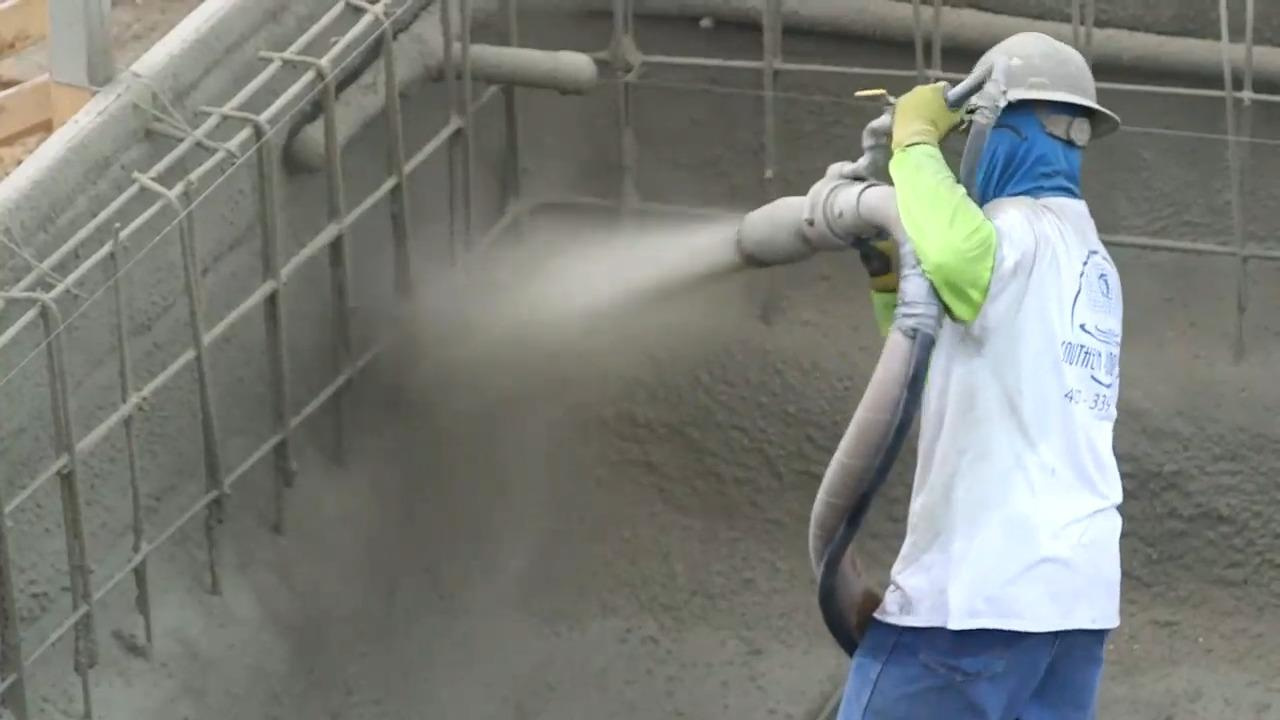Gloves: (886, 72, 956, 152)
Helmet: (958, 28, 1134, 136)
Person: (770, 0, 1161, 720)
no-vest: (936, 235, 1134, 607)
